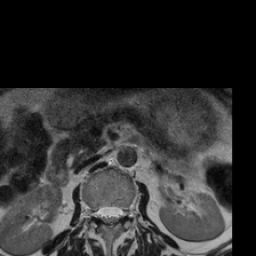CCS_normal: (105, 196, 113, 232)
LFS_normal: (122, 198, 130, 226)
LLS_normal: (113, 196, 122, 228)
RFS_normal: (87, 198, 97, 223)
RLS_normal: (97, 197, 105, 229)
